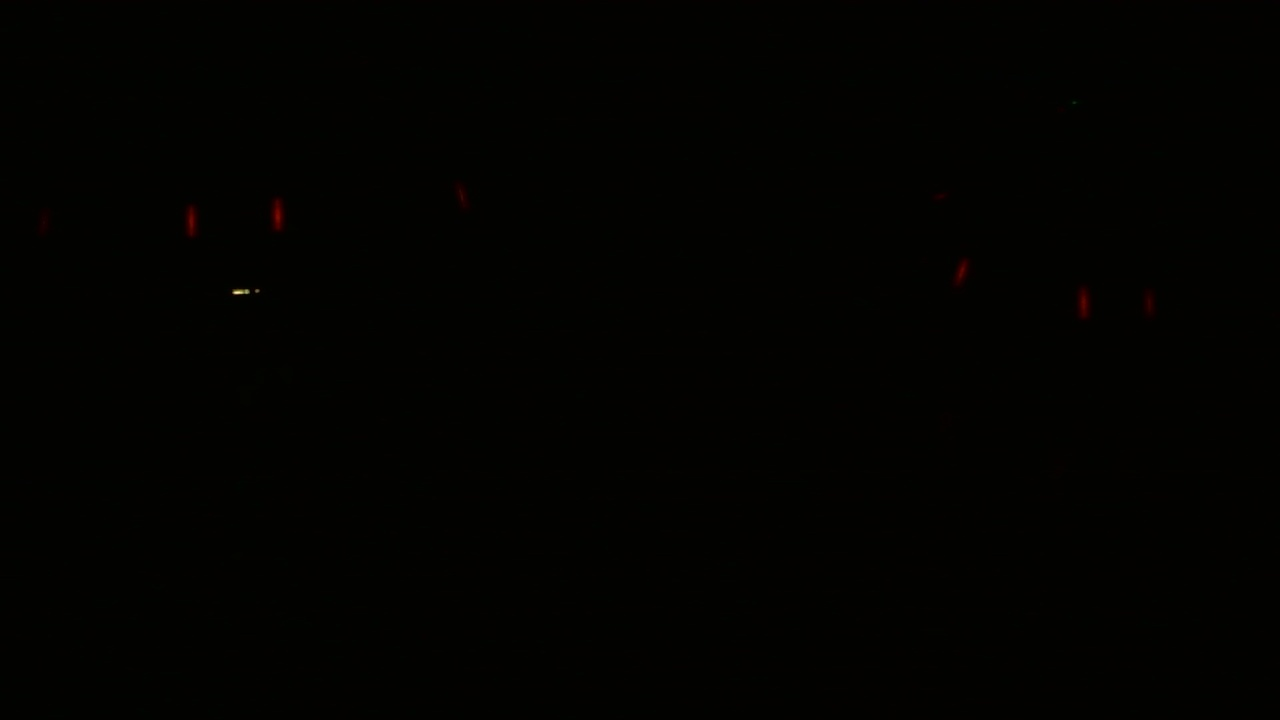pair1: (175, 197, 288, 232)
